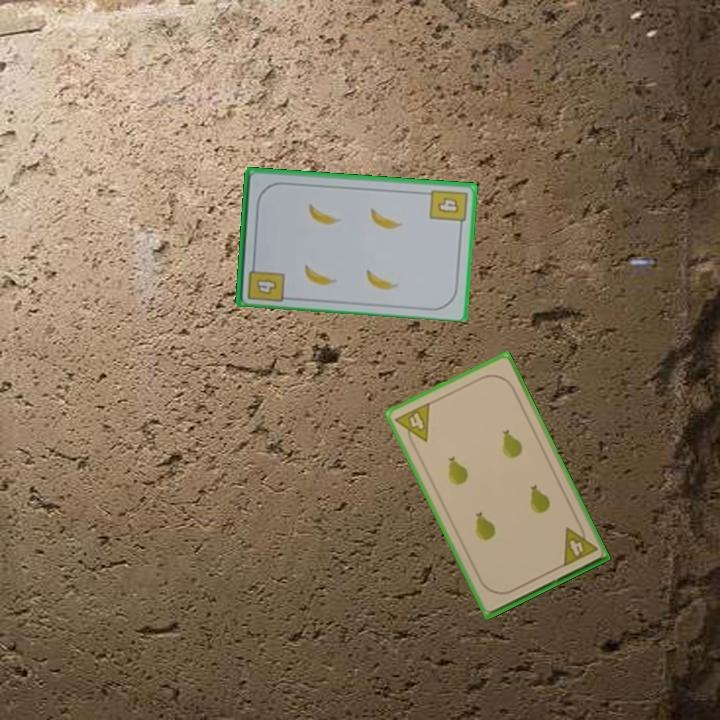4b: (244, 257, 287, 304), (426, 186, 470, 231)
4p: (391, 399, 433, 450), (559, 519, 600, 570)
